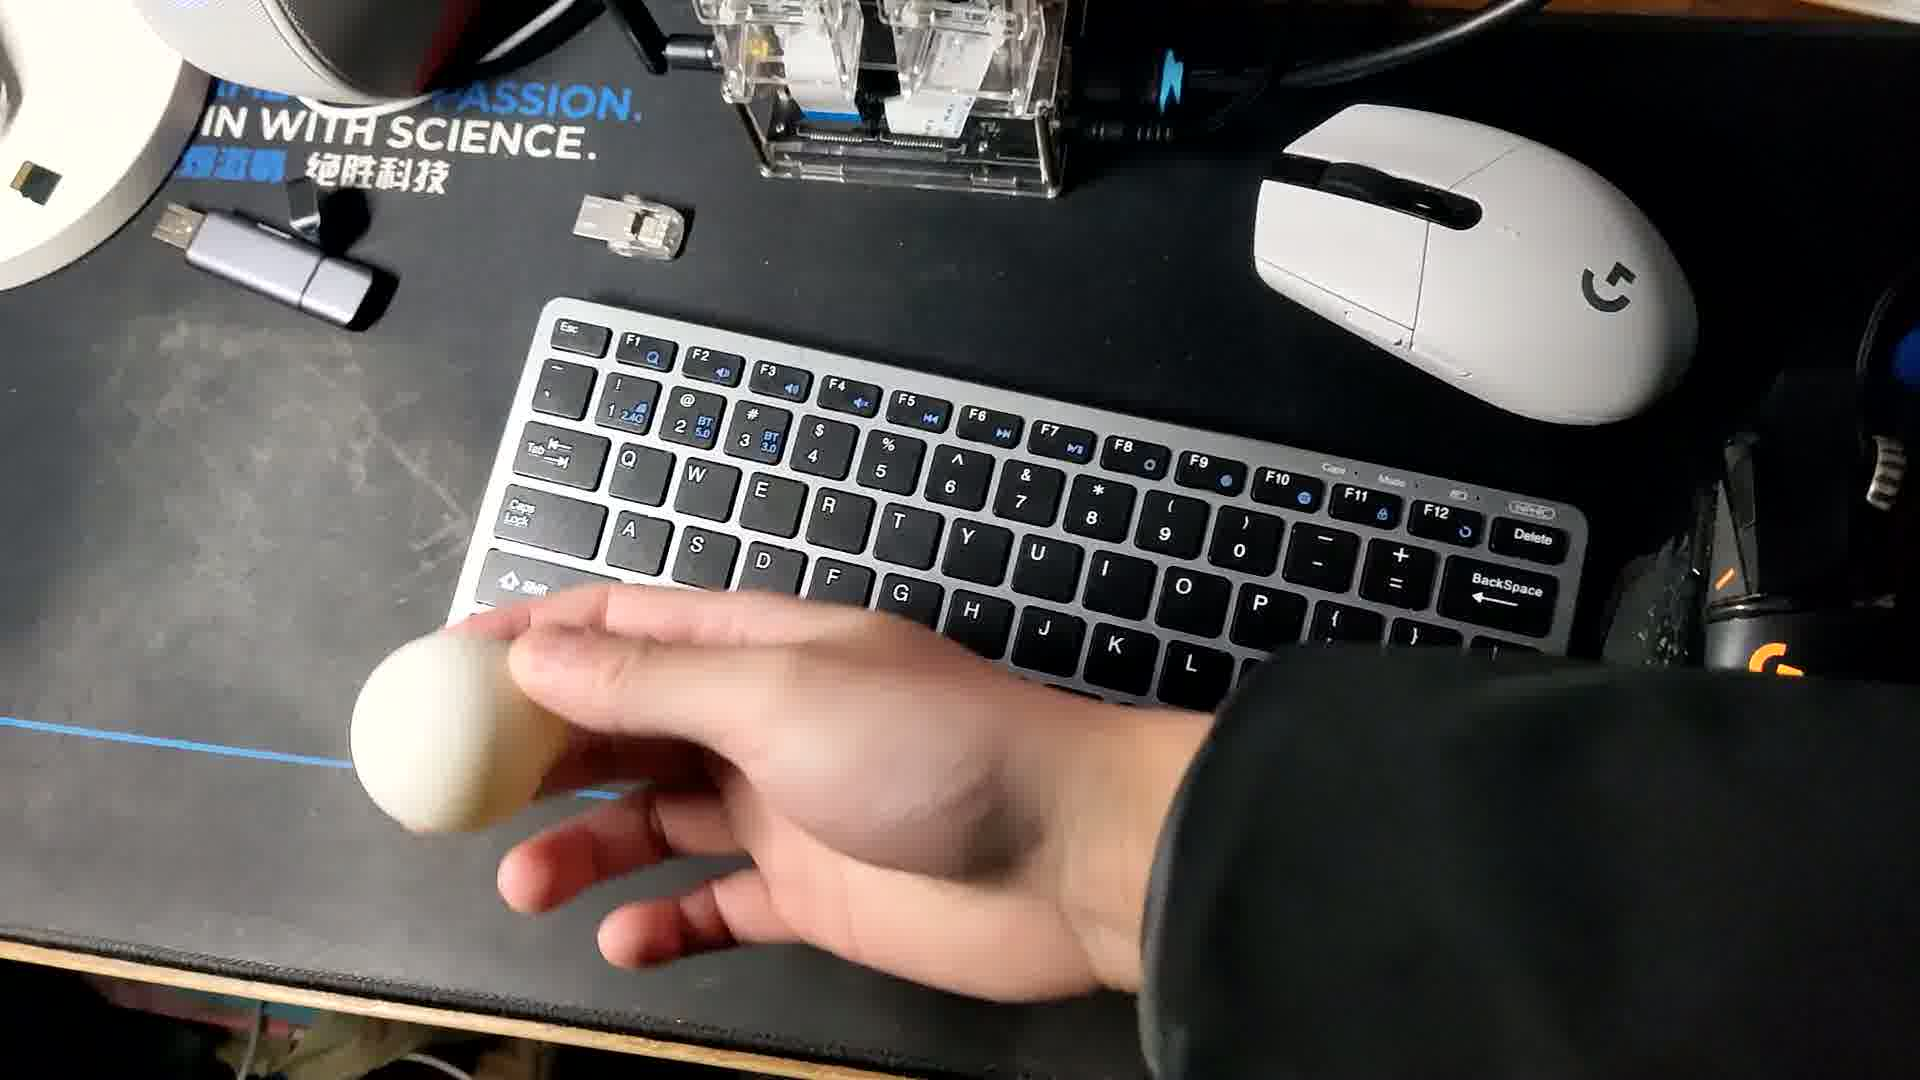Ball: (355, 636, 555, 837)
